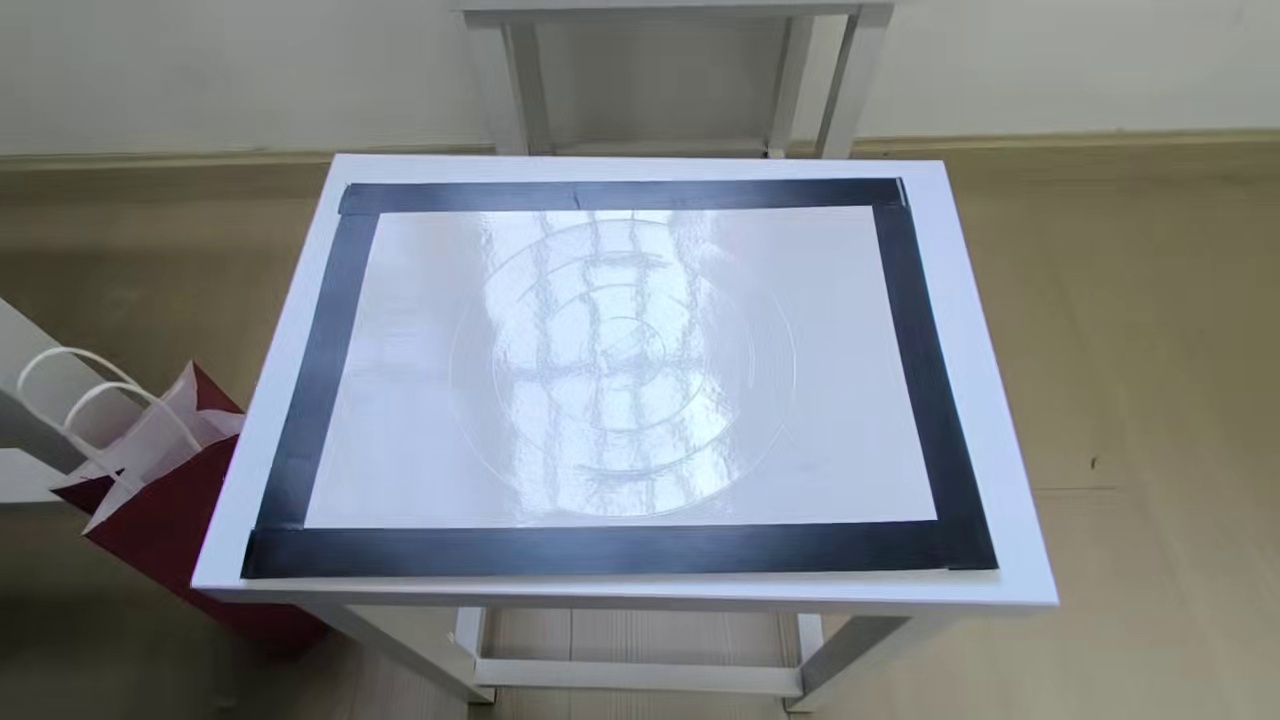board: (236, 175, 998, 578)
